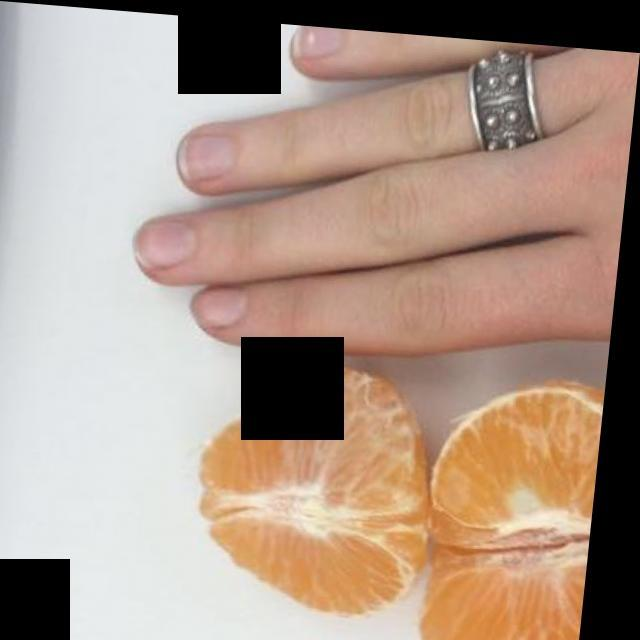orange: (214, 364, 596, 639)
